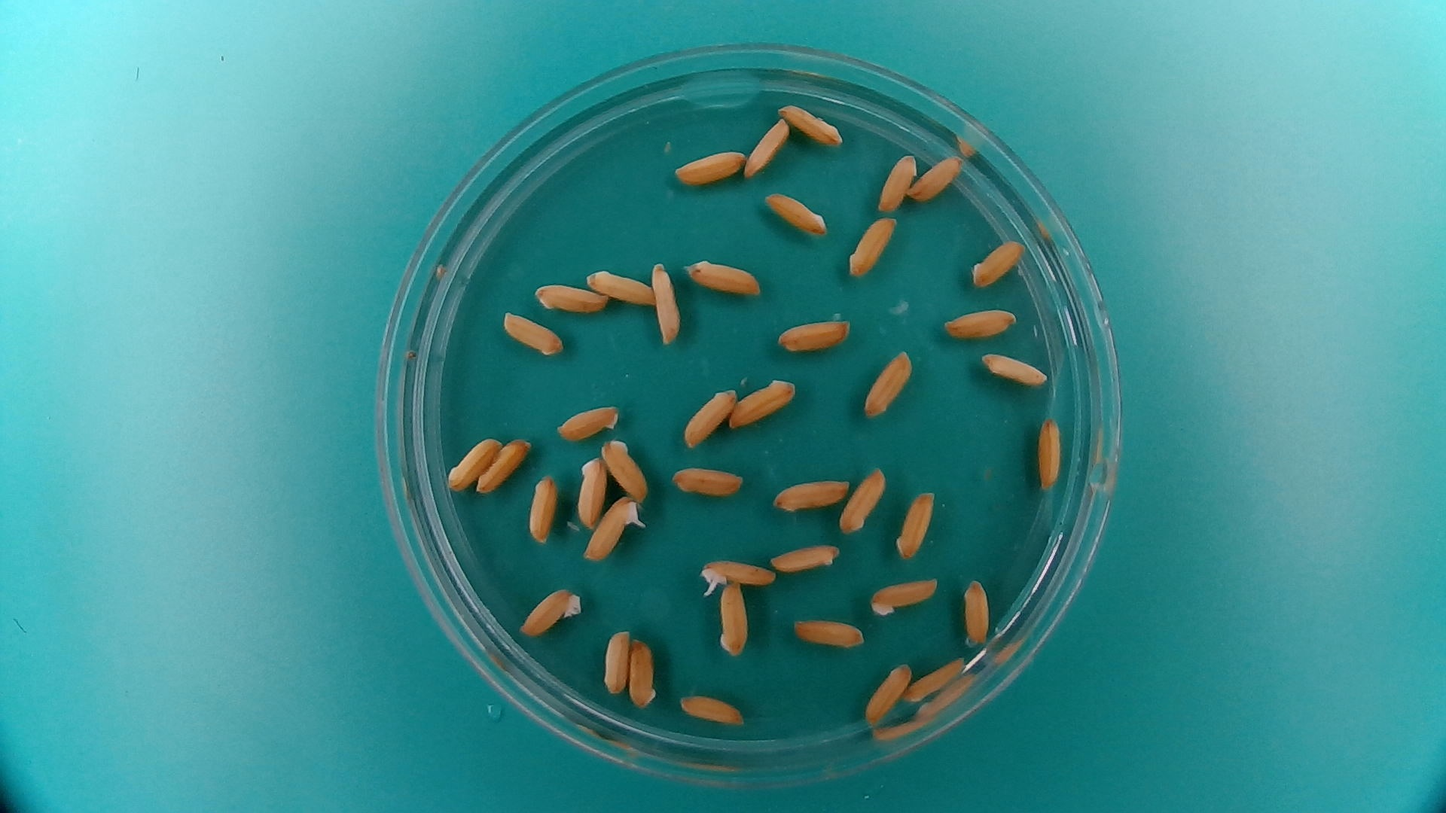no: (598, 431, 653, 507), (726, 374, 798, 431), (859, 345, 914, 419), (679, 385, 737, 450), (837, 464, 889, 535), (517, 585, 584, 639), (682, 256, 764, 299), (862, 659, 913, 728), (845, 214, 898, 279), (476, 434, 532, 495), (773, 312, 854, 354), (770, 473, 853, 513), (867, 574, 942, 617), (444, 434, 499, 492), (902, 653, 966, 702), (762, 190, 830, 236), (776, 101, 844, 147), (895, 487, 937, 561), (743, 115, 791, 179), (501, 309, 565, 357), (906, 152, 966, 203), (969, 236, 1027, 288), (669, 462, 746, 500), (554, 400, 622, 443), (649, 258, 682, 346), (672, 148, 746, 187), (584, 267, 656, 307), (876, 149, 919, 214), (979, 349, 1050, 388), (572, 452, 607, 531), (715, 577, 749, 658), (941, 305, 1019, 340), (790, 615, 868, 650), (768, 538, 842, 574), (532, 281, 609, 315), (676, 690, 746, 726), (525, 470, 559, 544), (627, 635, 657, 711), (960, 575, 991, 648), (1036, 414, 1063, 491), (601, 626, 630, 696)
yes: (581, 491, 646, 563), (694, 555, 778, 593)
